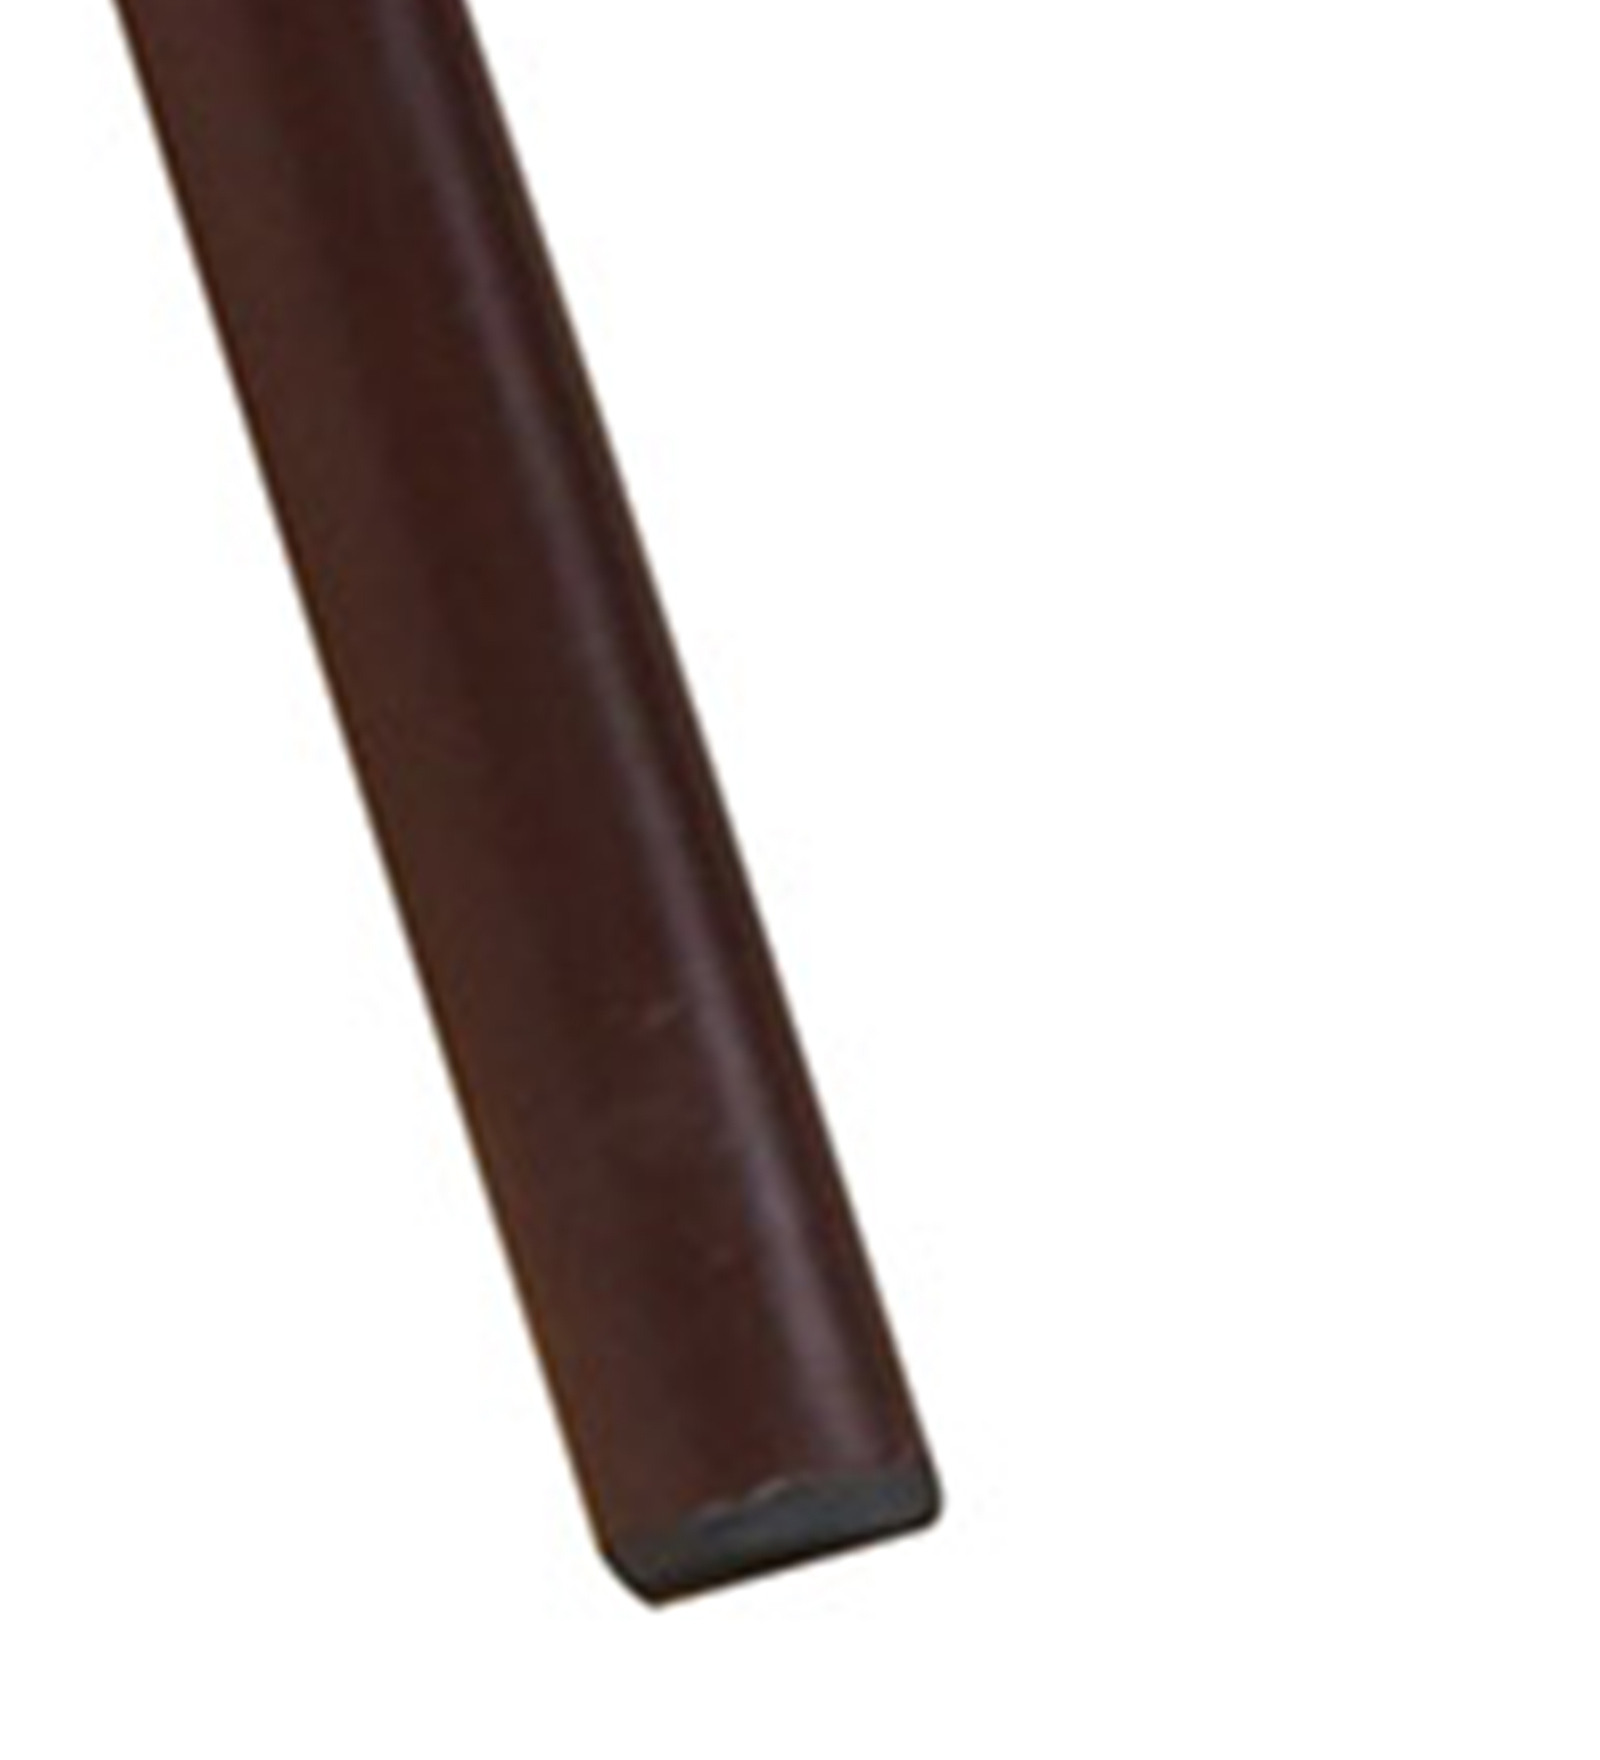Kell Folding Chair in Brown Color by Bohemiana: (104, 12, 987, 1650)
